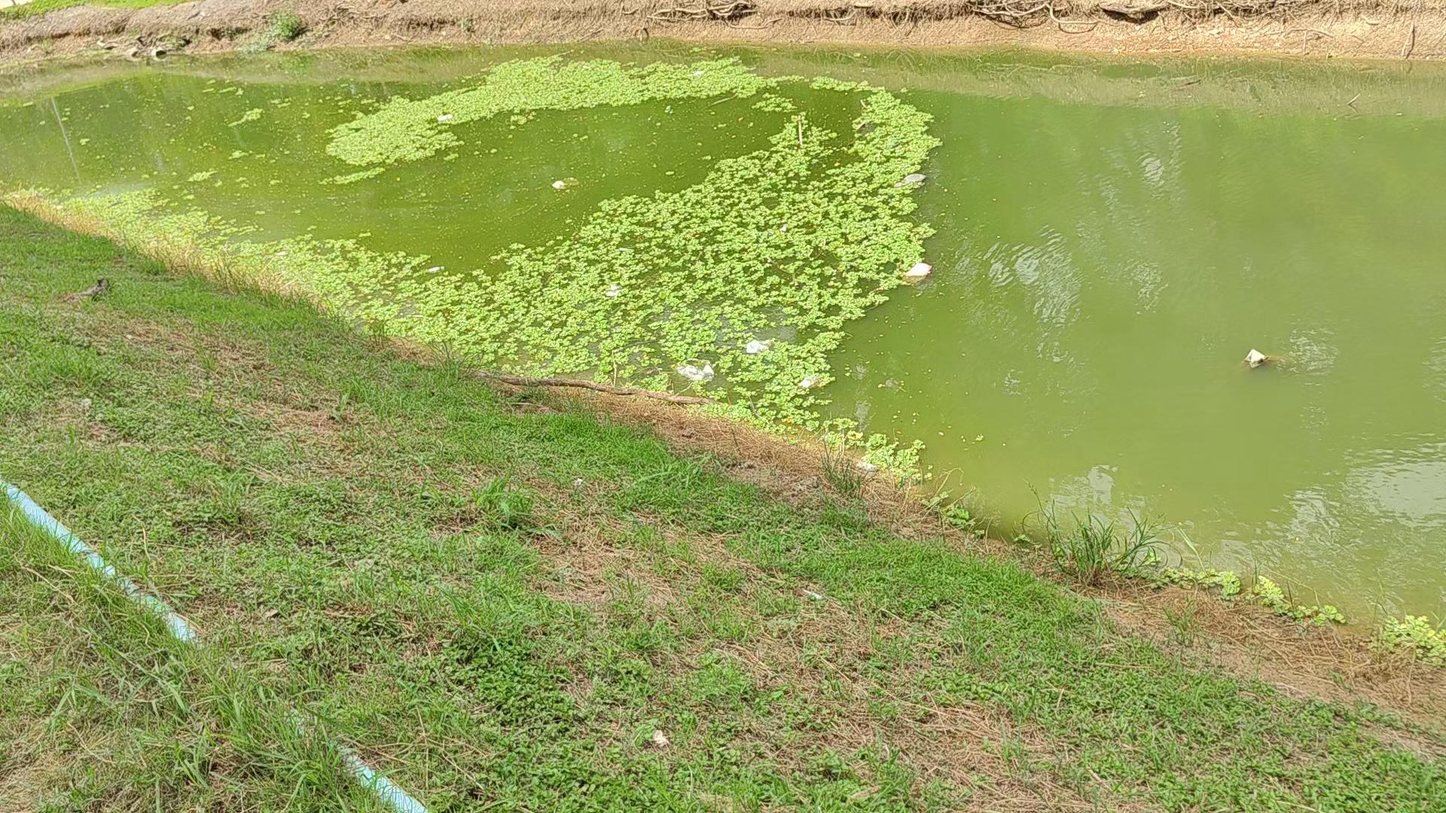trash: (679, 363, 714, 381), (1245, 349, 1269, 367), (905, 263, 932, 279), (798, 373, 822, 389), (896, 173, 926, 185), (746, 340, 770, 354), (552, 178, 575, 189), (606, 283, 621, 297), (437, 113, 453, 121), (428, 266, 444, 273), (692, 69, 705, 76)
